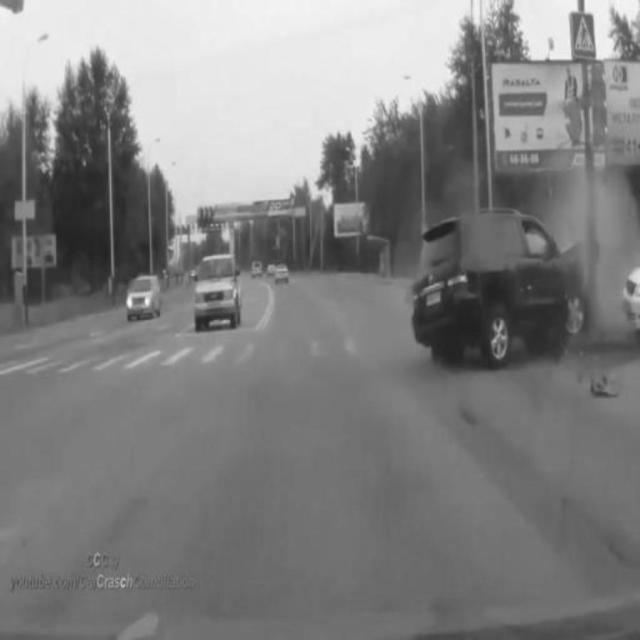accident: (417, 216, 601, 366)
vehicle: (191, 257, 242, 327), (122, 272, 163, 320)
